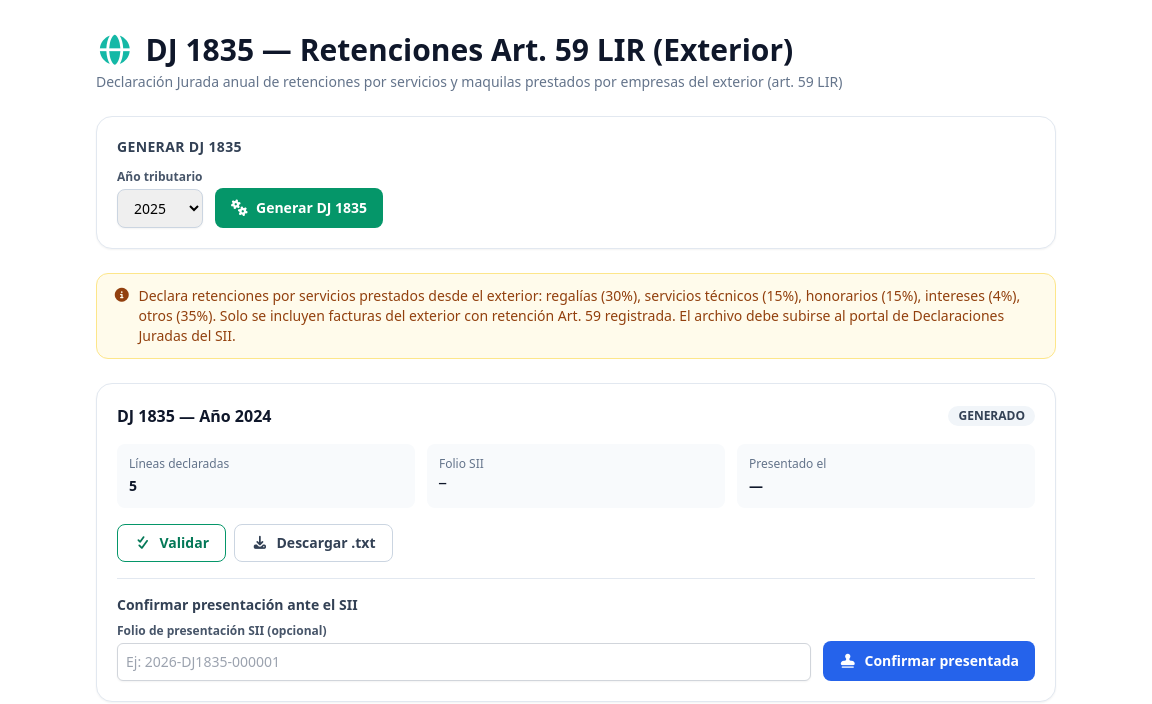
Dj1835 (vista) › handleValidar muestra mensaje de error cuando falla
Click the button "Validar".
click(172, 543)  # box [117,524,226,562]
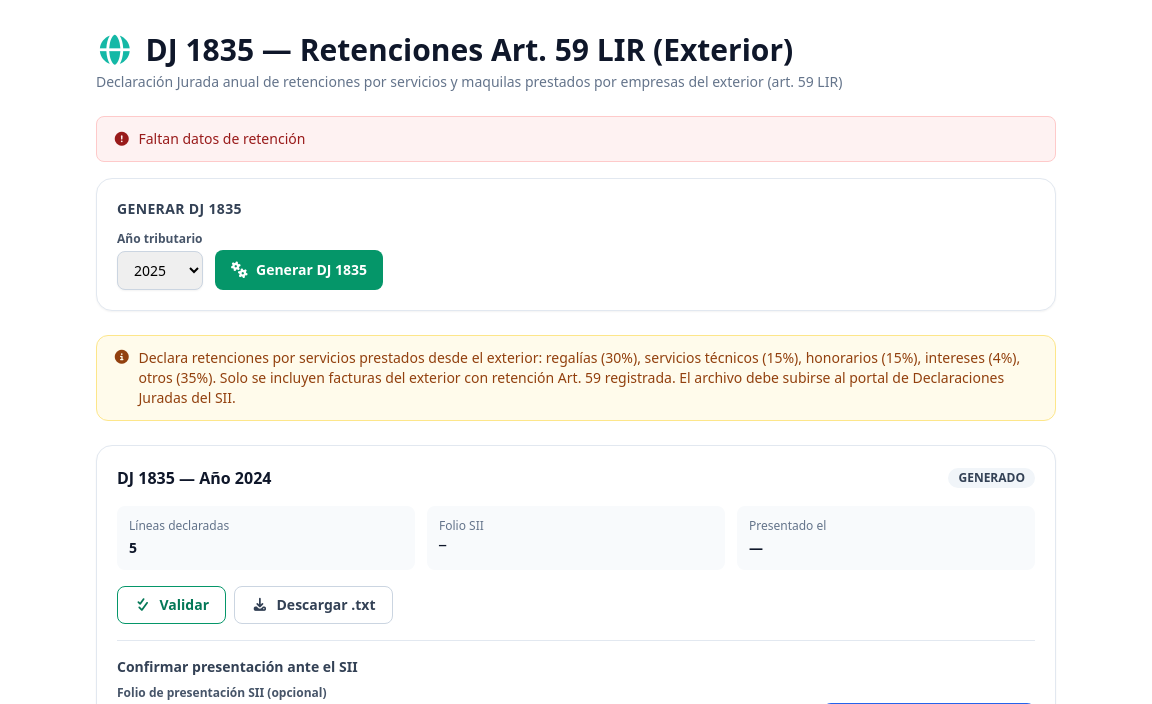
expect the text "Faltan datos de retención" is shown: met, box [96,116,1056,162]
